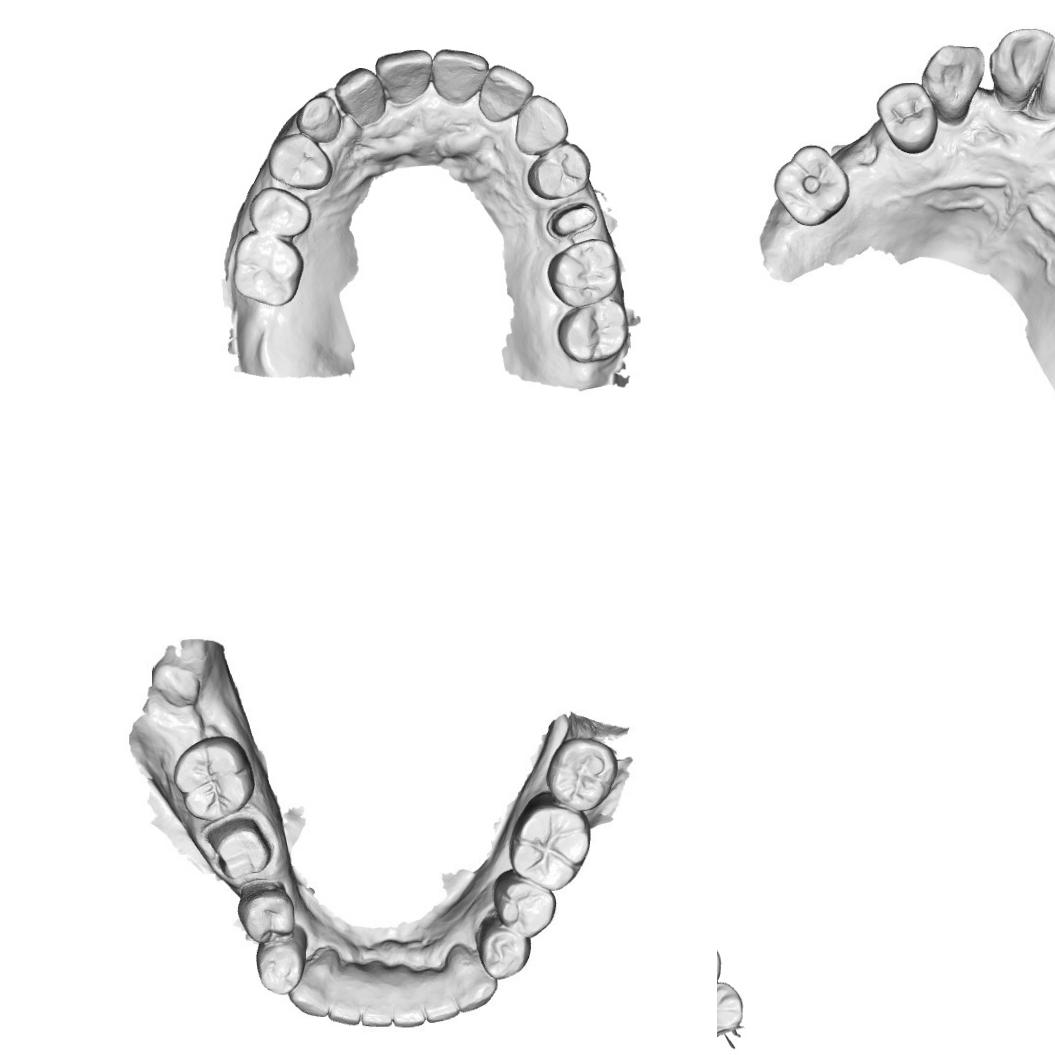canine: (921, 41, 982, 126), (512, 92, 571, 158), (446, 941, 498, 1014), (288, 949, 336, 1018), (292, 92, 342, 144)
crown: (202, 816, 274, 884), (546, 199, 600, 241)
incisor: (987, 27, 1054, 103), (373, 47, 434, 108), (476, 62, 536, 124), (430, 46, 490, 105), (333, 65, 388, 129), (1031, 20, 1055, 124), (420, 964, 460, 1025), (359, 967, 396, 1029), (326, 969, 364, 1026), (390, 972, 426, 1030)
molar: (508, 796, 591, 892), (170, 732, 256, 822), (773, 142, 852, 232), (544, 734, 620, 814), (230, 229, 306, 308), (545, 236, 620, 308), (555, 296, 630, 366)
premolar: (876, 80, 940, 156), (490, 872, 558, 939), (524, 140, 592, 202), (265, 131, 334, 191), (474, 920, 535, 982), (238, 880, 294, 946), (246, 185, 313, 238), (253, 932, 306, 996), (717, 981, 743, 1035)
